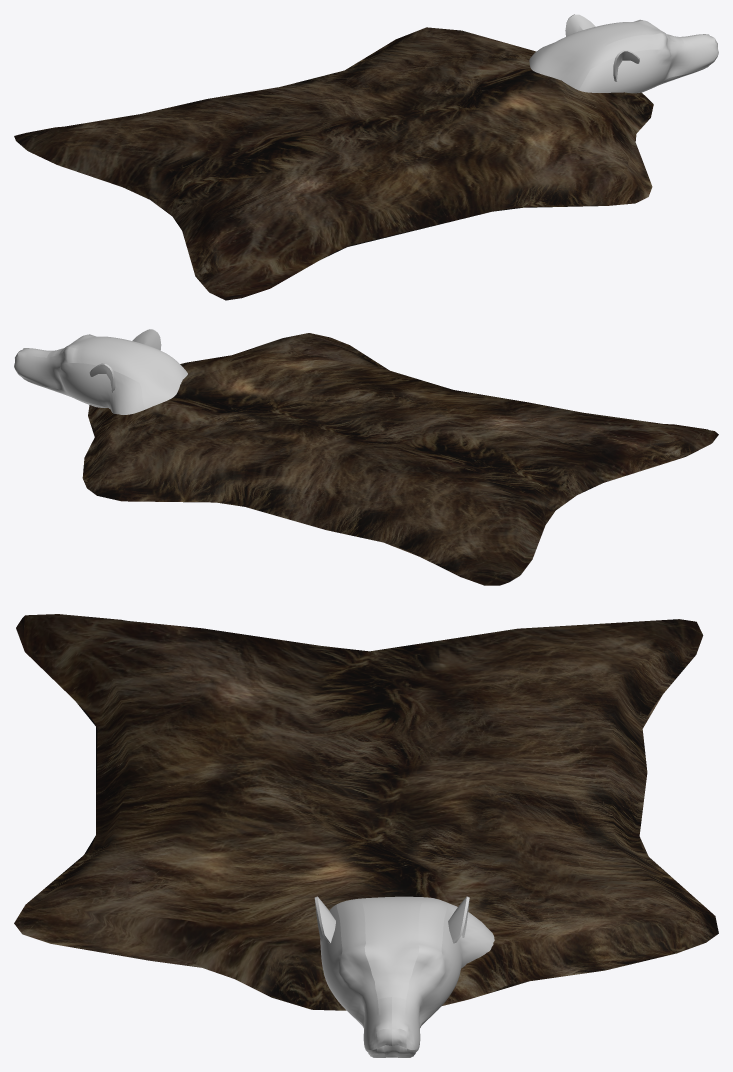
File: BearFur.fbx
3 views of the same model, one above another, from view 1: azimuth 30°, elevation 25°; view 2: azimuth 150°, elevation 25°; view 3: azimuth 270°, elevation 25° (orthographic). The views are drawn at different scales.
Visible parts, largest first — view 1: BearFur_LOD0; view 2: BearFur_LOD0; view 3: BearFur_LOD0.
Part boxes in pixels (box(x1,y1,x2,y2)): BearFur_LOD0: box(14, 14, 718, 300); BearFur_LOD0: box(14, 329, 718, 585); BearFur_LOD0: box(14, 614, 718, 1057).
Size of what is drawn, in the model's own units: 166 by 15.68 by 108.
